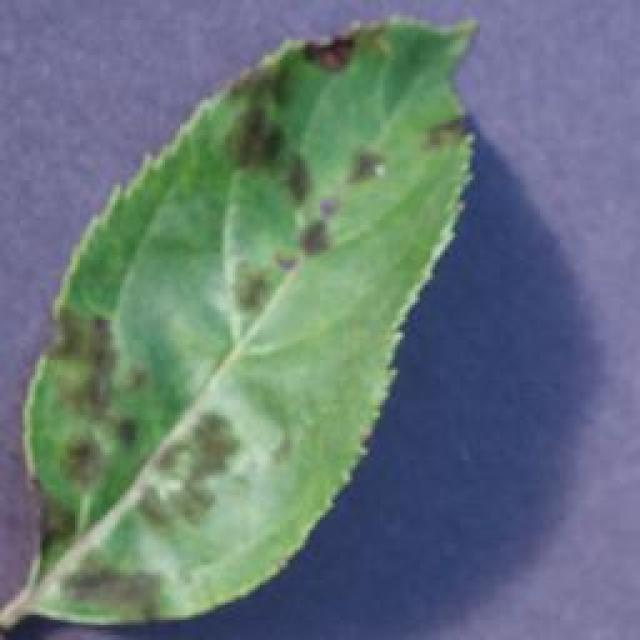apple scab disease: (0, 10, 480, 632)
